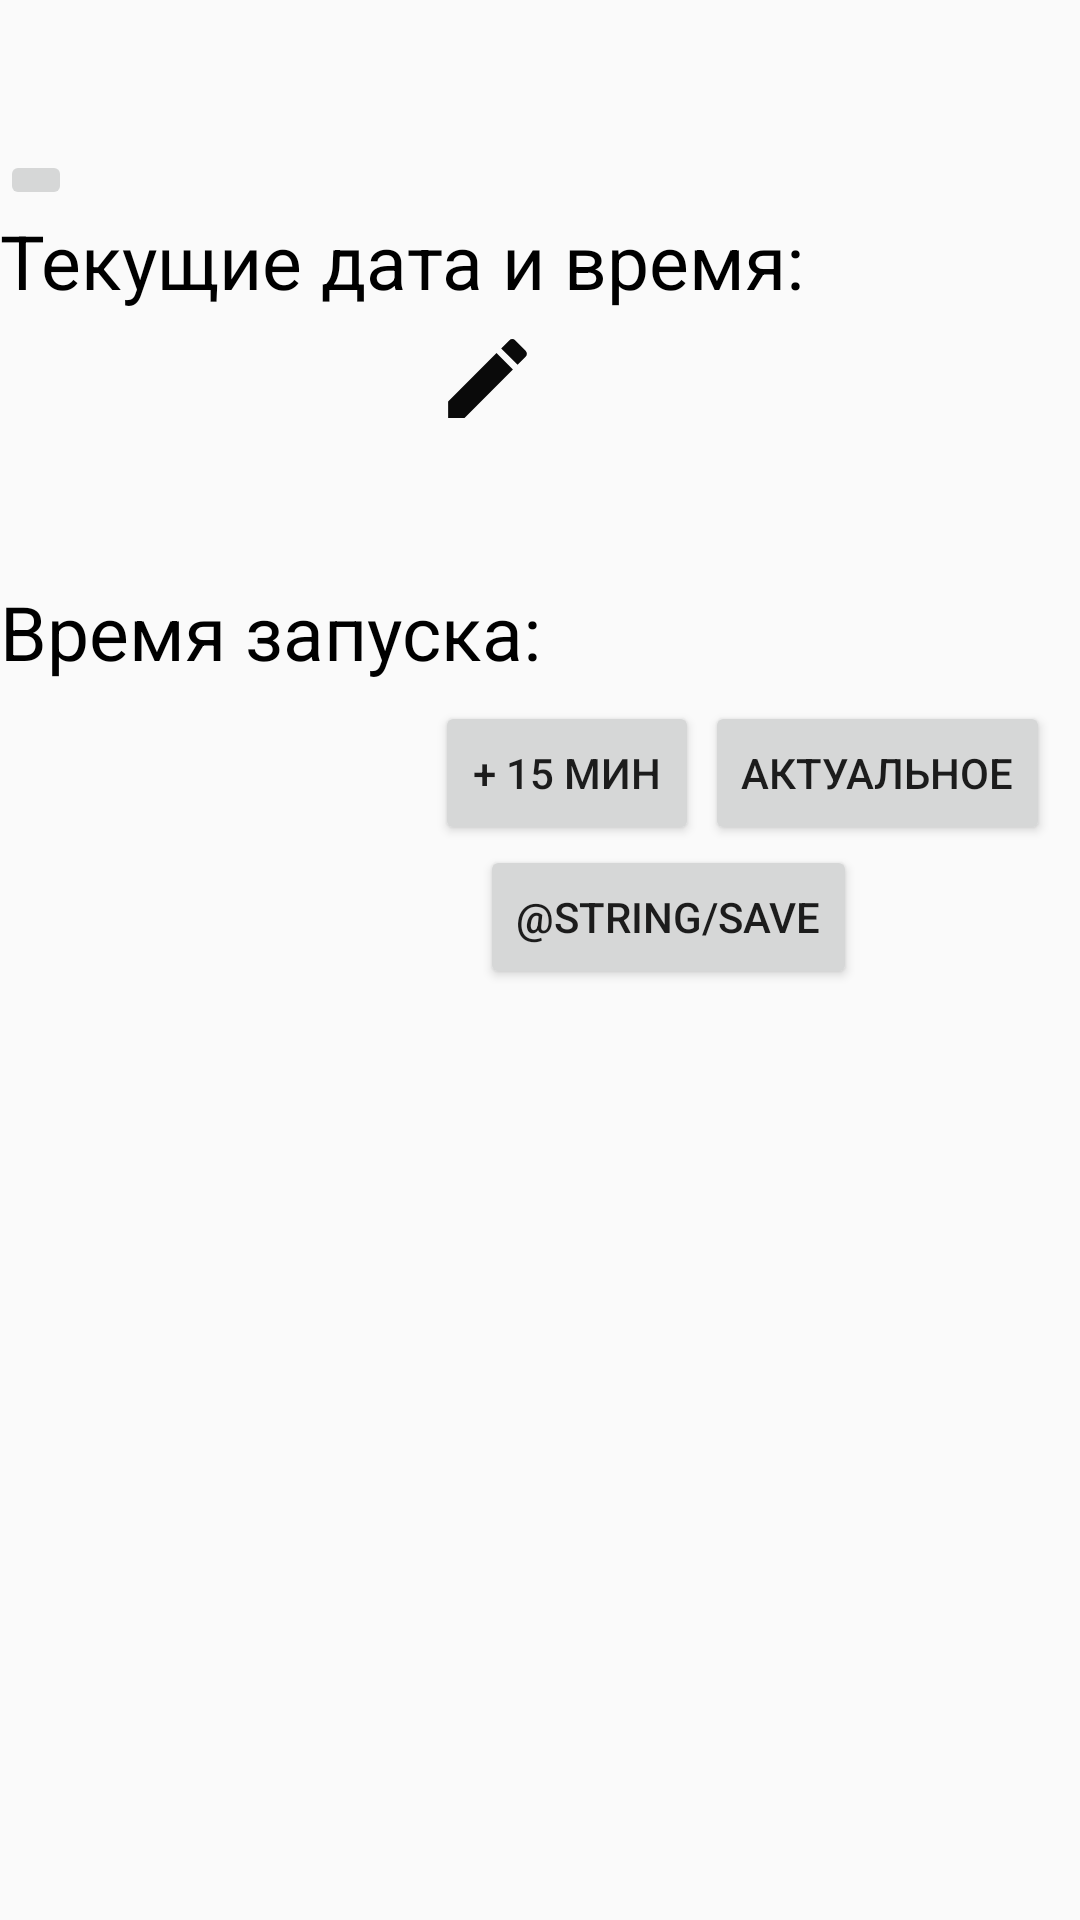

Icon click points for this 1080 × 1920 phone screenshot, format (x,y):
edit: (487,378)
